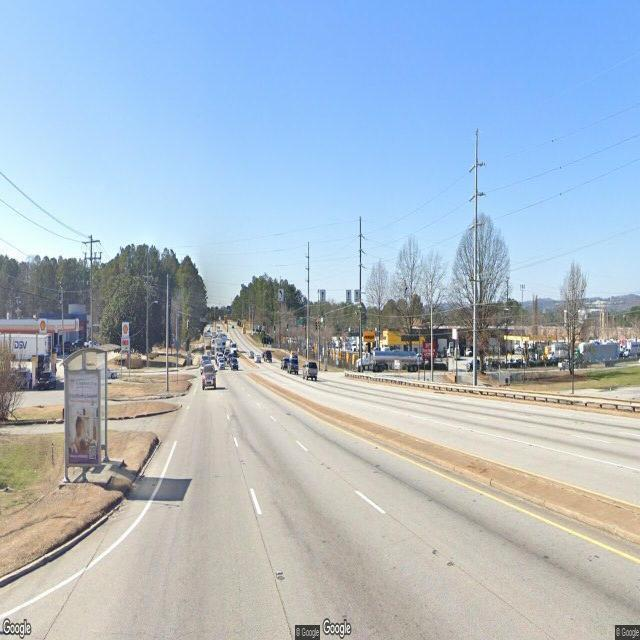shelter: (58, 344, 120, 488)
